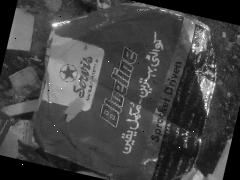general: (18, 0, 229, 180), (0, 105, 16, 155)
